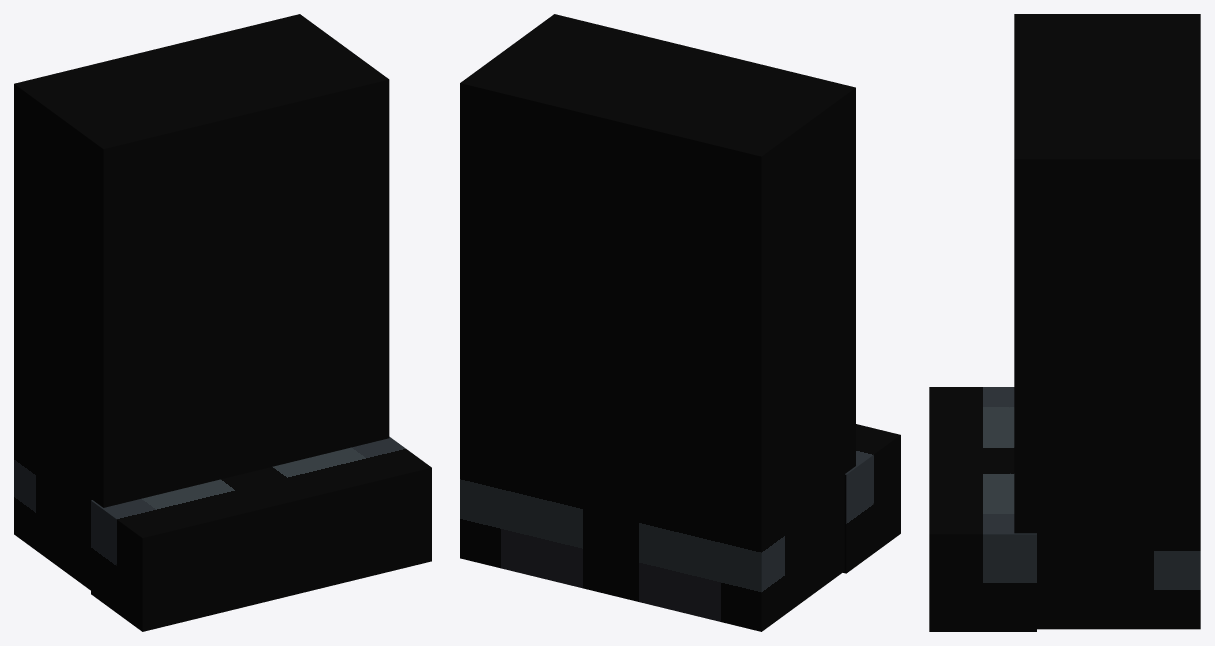
File: sl_clogs.glb
3 views of the same model, side by side, from view 1: azimuth 30°, elevation 25°; view 2: azimuth 150°, elevation 25°; view 3: azimuth 270°, elevation 25° (orthographic). The views are drawn at different scales.
Parts seen in each view (by area): view 1: bb_clogs; view 2: bb_clogs; view 3: bb_clogs.
Boxes of the visible parts, x1,y1,x2,y2 form: bb_clogs: (14, 14, 431, 631); bb_clogs: (460, 14, 900, 631); bb_clogs: (929, 14, 1200, 631).
Size of the model in its own units: 0.525 by 0.7844 by 0.4094.
Materials: 1 (1 with a texture image).
